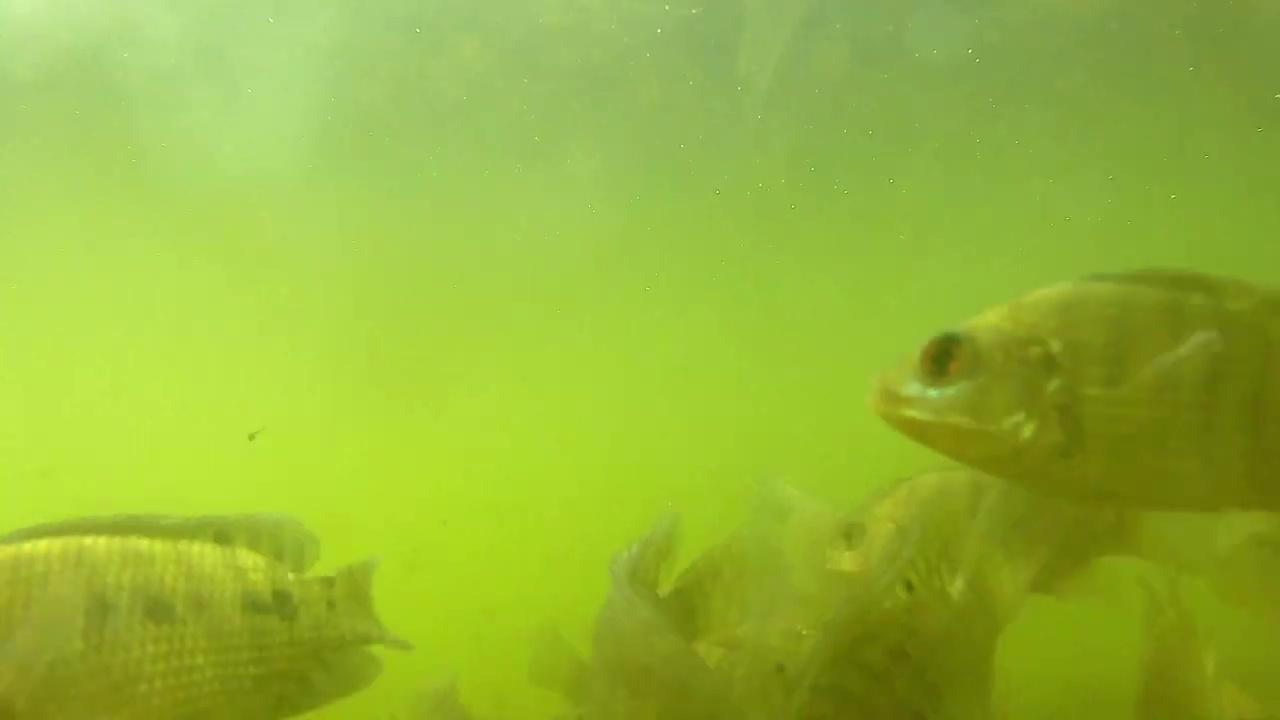Tilapia: (873, 252, 1280, 522), (0, 506, 419, 720)
